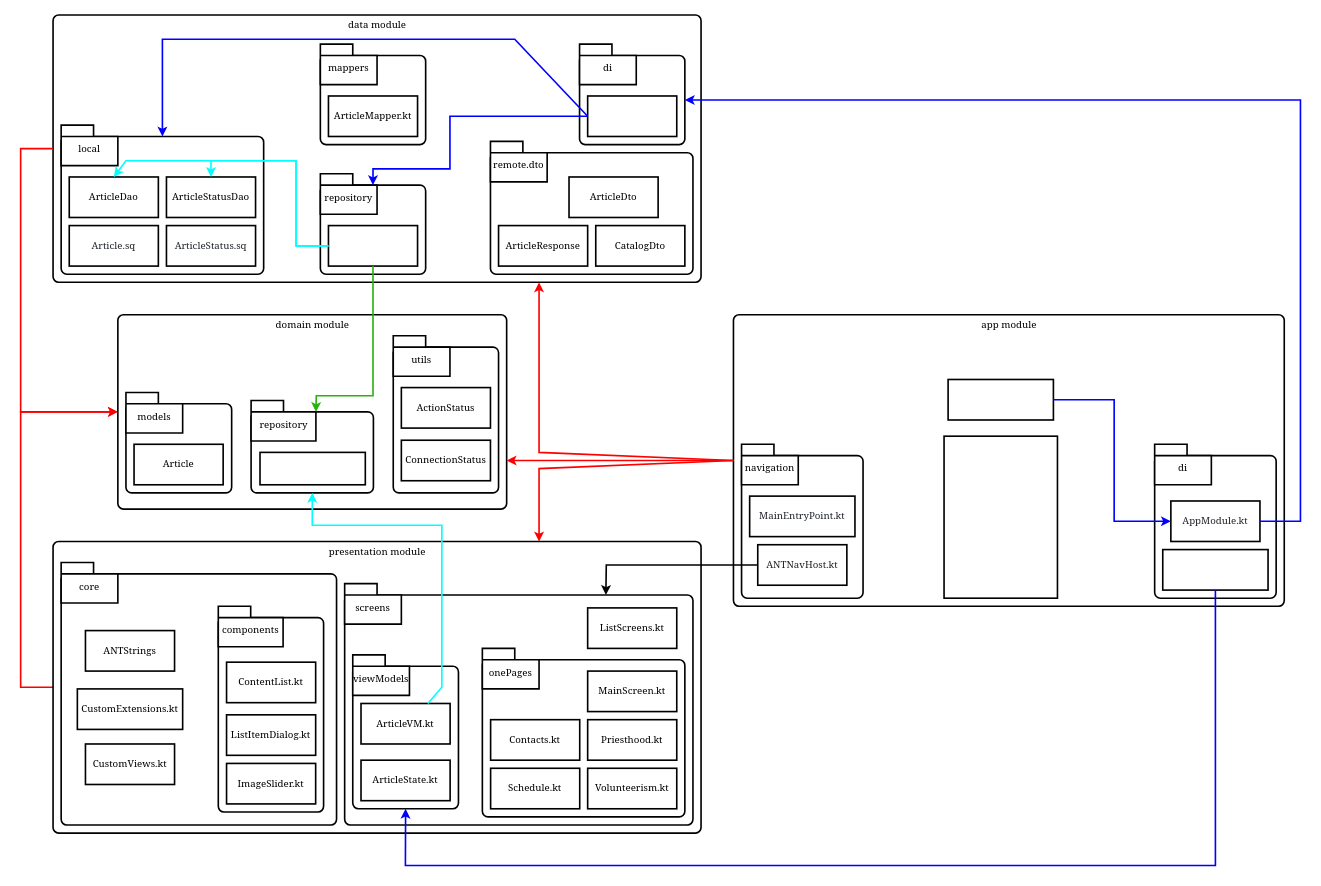
This 1321x886 diagram has some shape labels left out. Here are the shapes that lost their labels. From the top down, the centre of each, then its label:
[631,116]: DataModule.kt
[372,245]: ArticleRepository
[1000,399]: ANTApp
[312,468]: «interface» IArticleRepository
[1000,517]: MainActivity
[1215,569]: PresentationModule.kt
